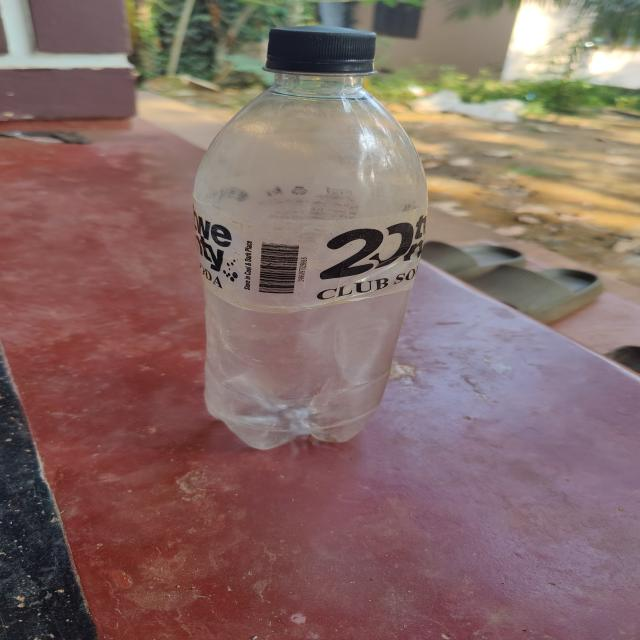plastic: (188, 18, 430, 454)
